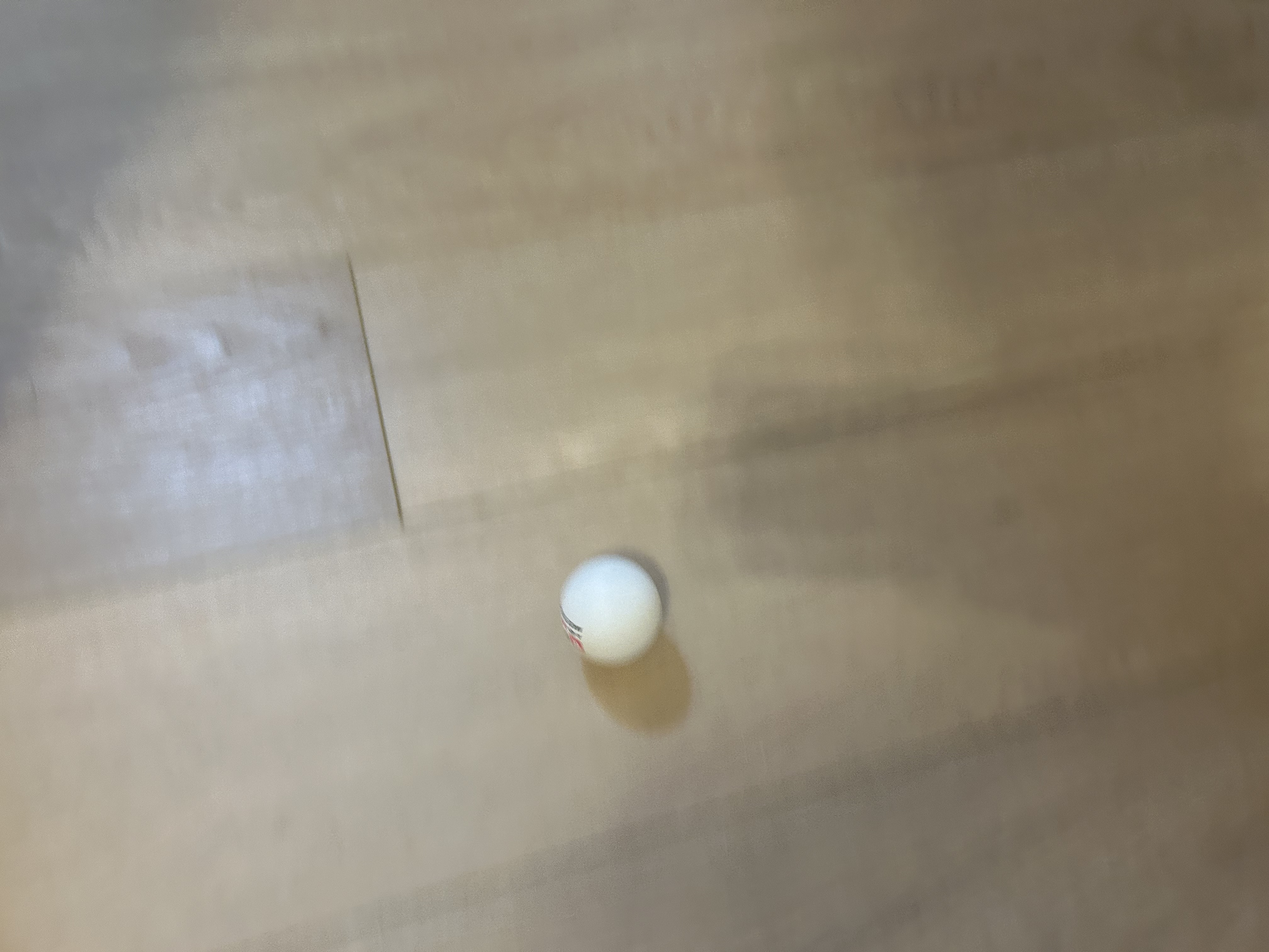Ball: (537, 552, 680, 667)
